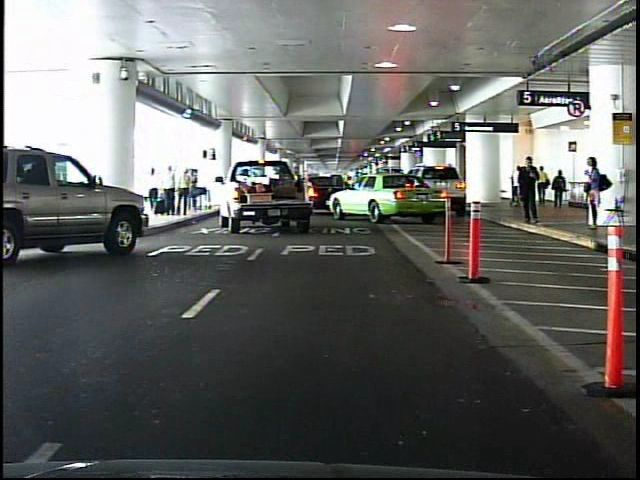person: (582, 153, 608, 234), (514, 152, 541, 227), (549, 169, 568, 210), (537, 166, 549, 207)
